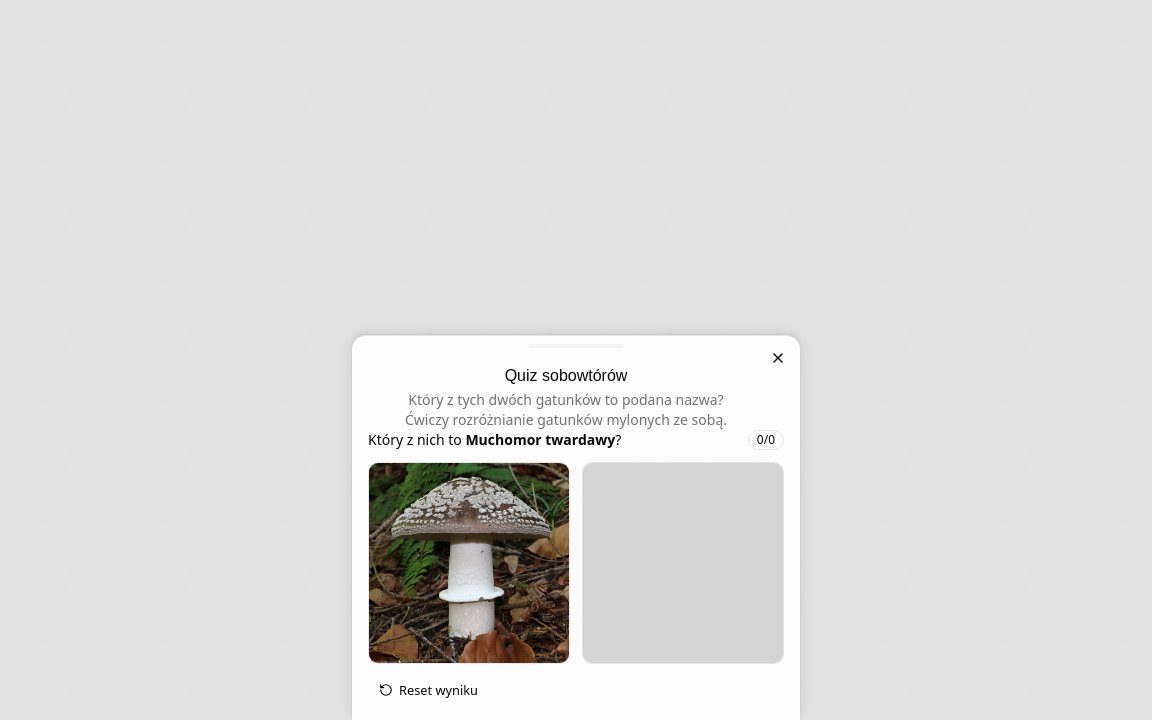
LookalikeQuiz › po odpowiedzi aktualizuje wynik i odsłania nazwy obu gatunków
The image size is (1152, 720).
Step 1. Click the button named "Kandydat A" → (469, 563), box [368, 462, 570, 664]
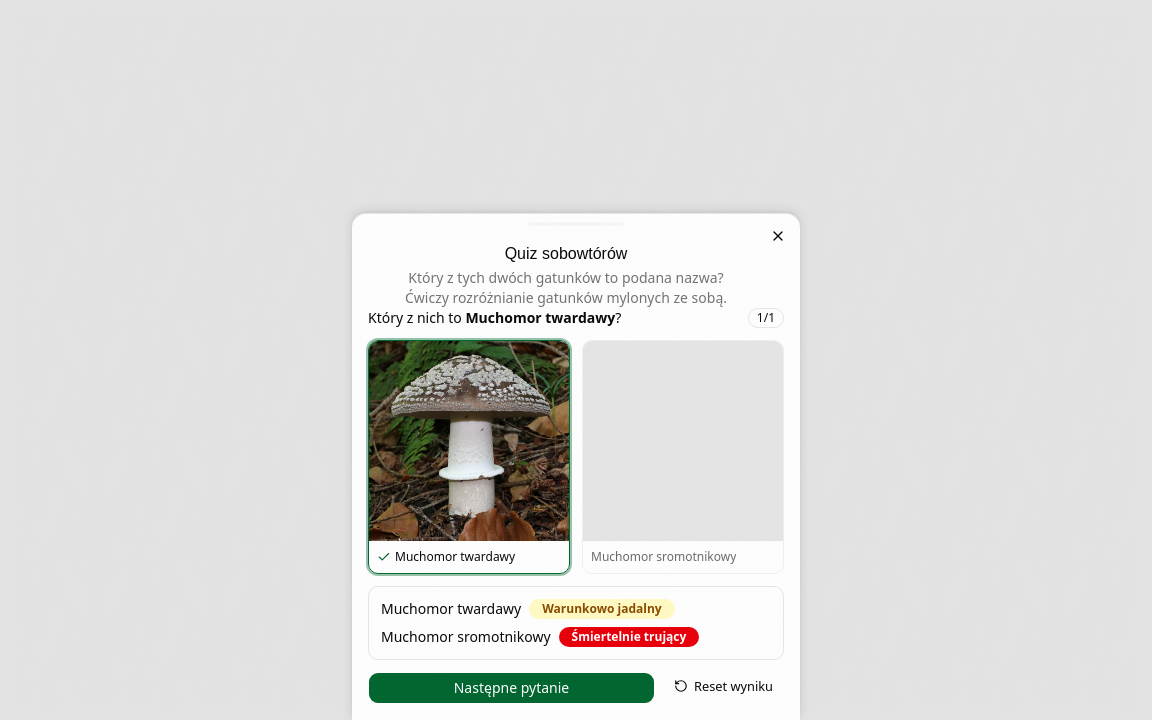
Check: the icon "1/1" is shown, box [748, 308, 784, 328]
Check: the button "Następne pytanie" is shown, box [368, 672, 655, 704]
